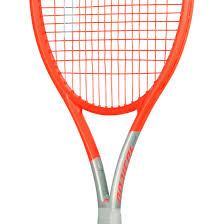tennis racket: (28, 1, 196, 224)
